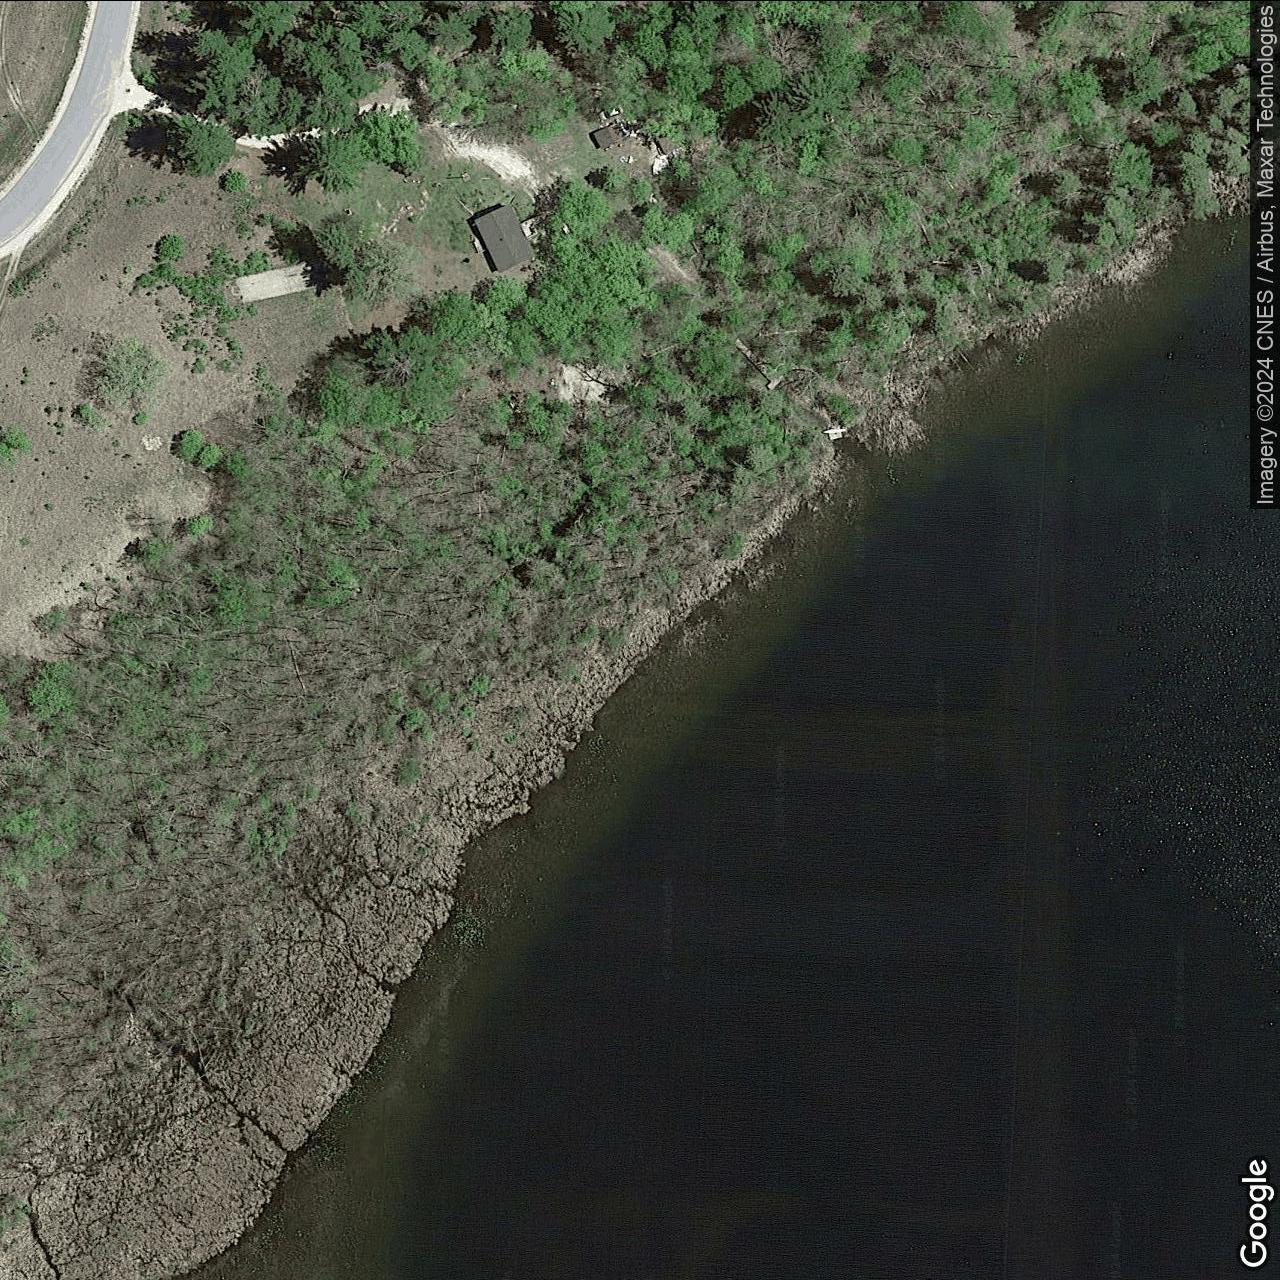House: (472, 200, 537, 273)
